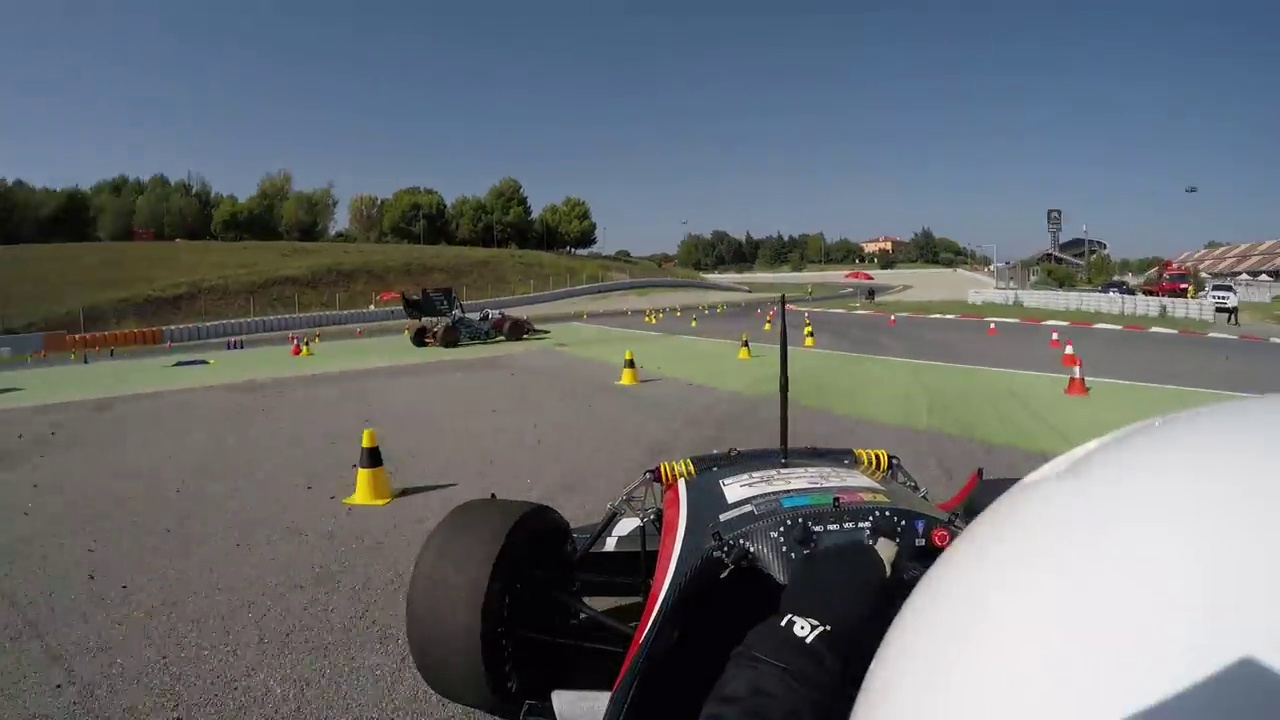Cone: (354, 426, 402, 508), (1066, 356, 1088, 399), (617, 347, 641, 385), (1057, 334, 1080, 368), (738, 334, 756, 363)
